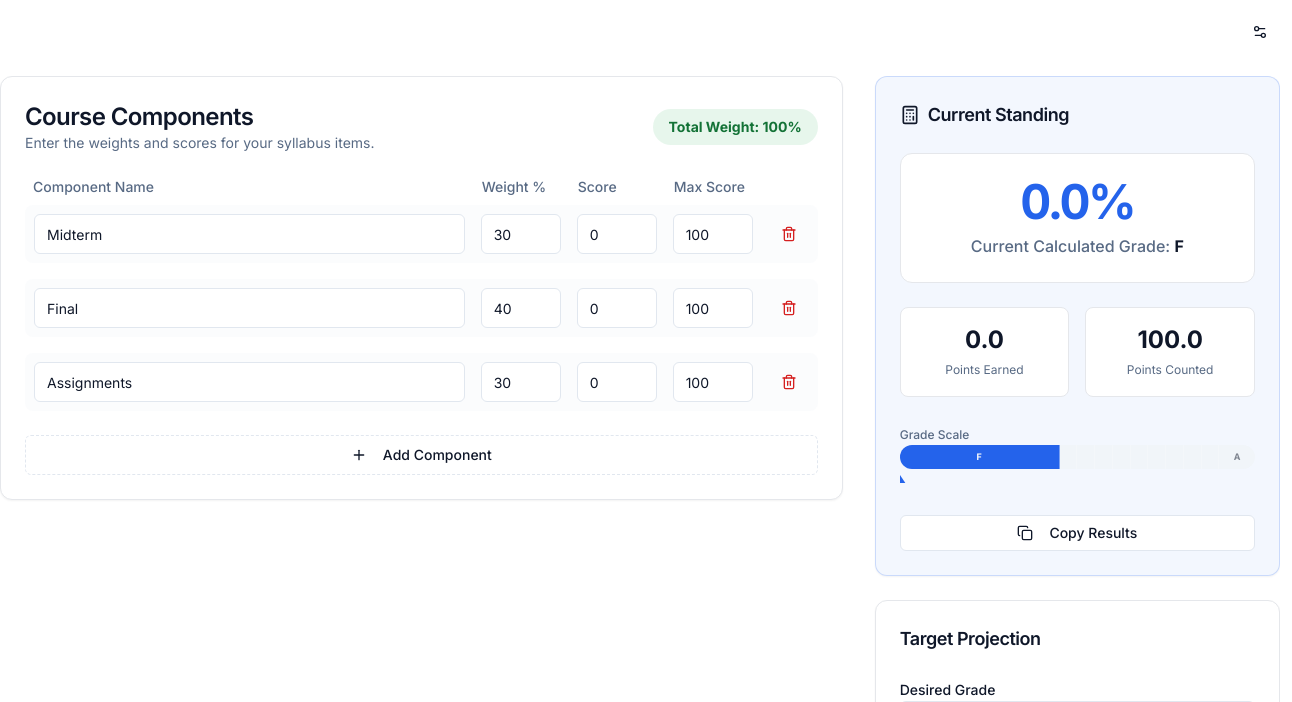
Test case: GradeCalculator Component › maps percentage to correct letter grade
This screenshot has width=1292, height=702.
Replace the text in the number field named "Score for" with "85": (617, 234) [577,214,657,254]
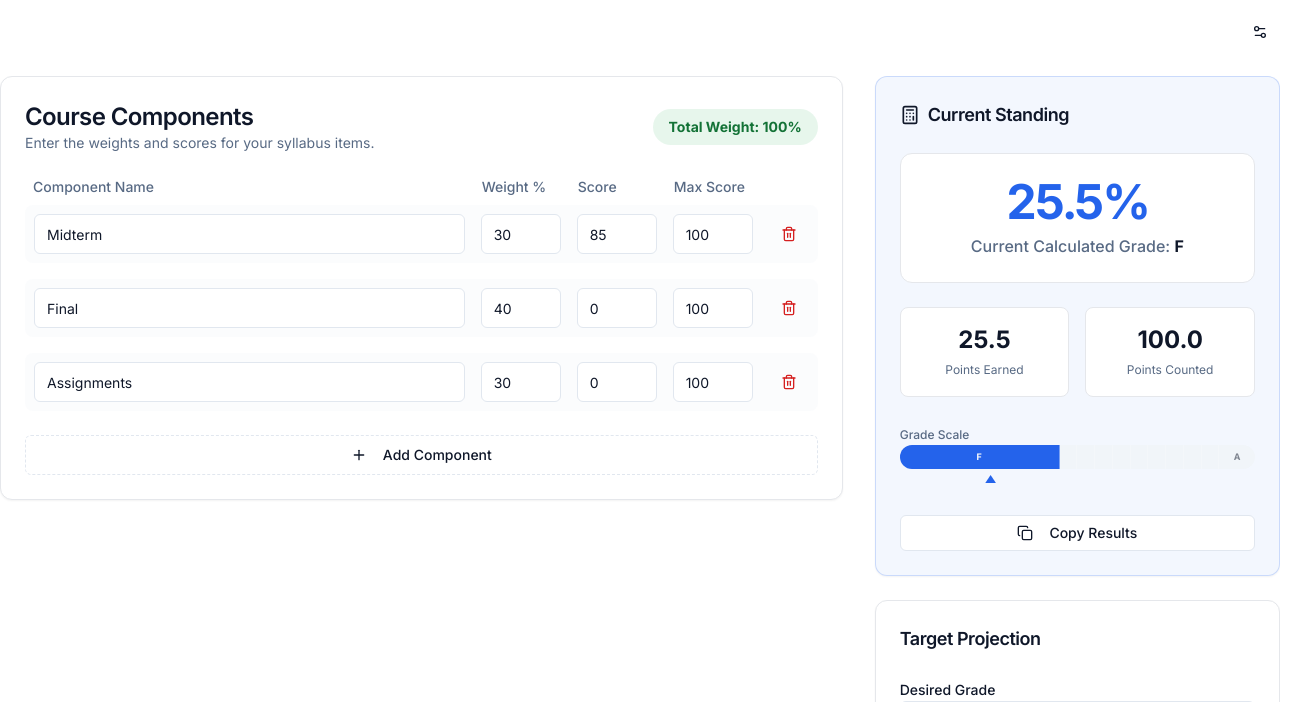
Replace the text in the number field named "Score for" with "85": (617, 308) [577,288,657,328]
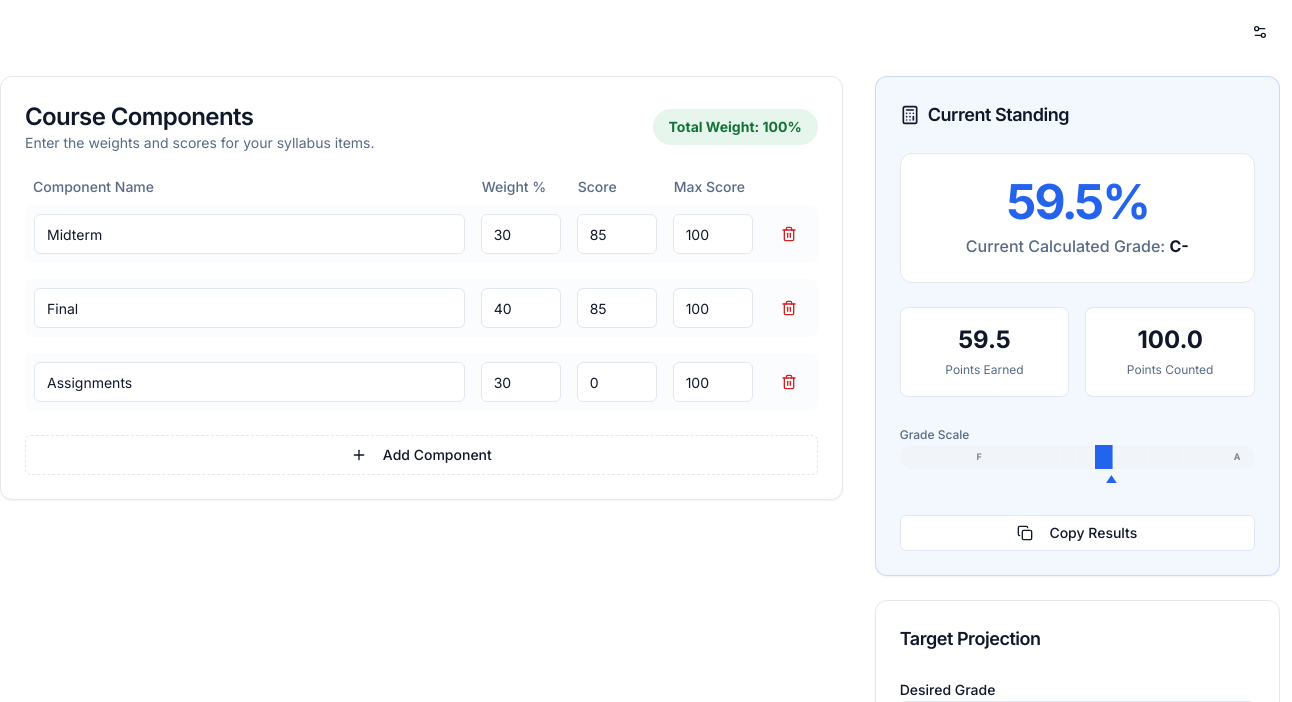
Replace the text in the number field named "Score for" with "85": (617, 382) [577,362,657,402]
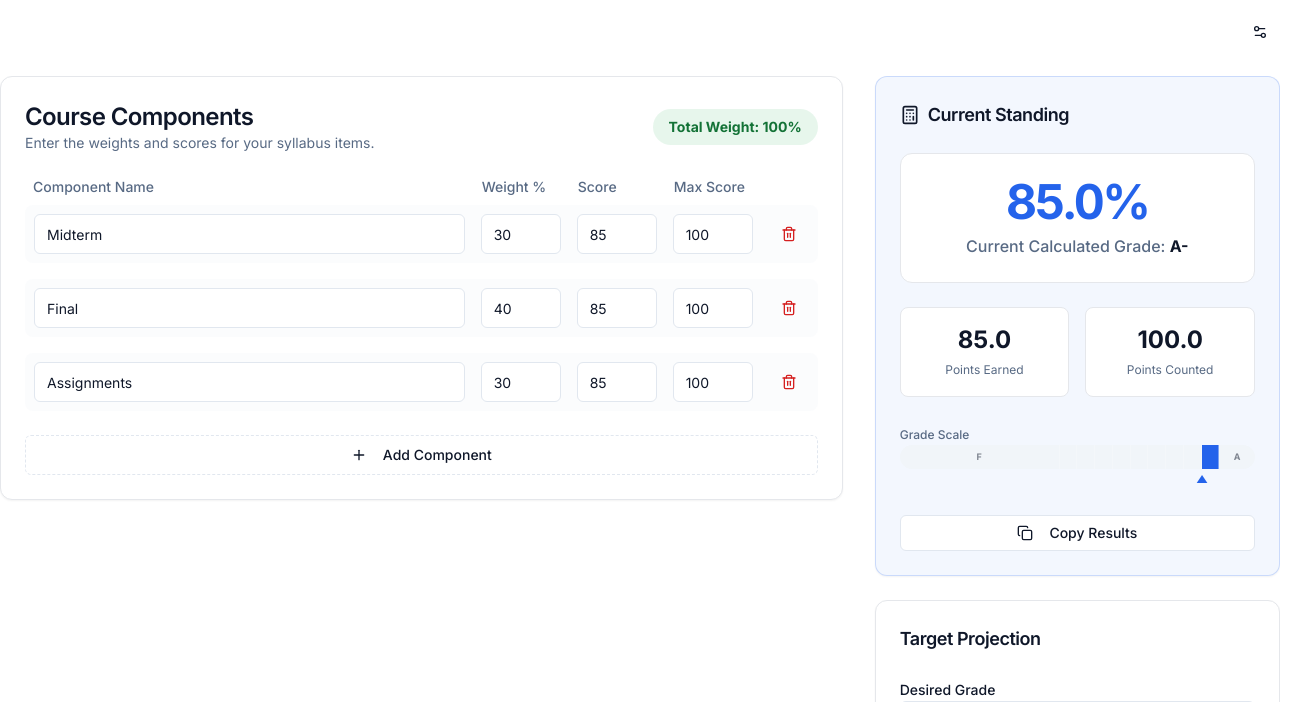
Expected: the text "85.0%" is shown, [1006,178,1149,226]
Expected: the text "Current Calculated Grade: A-" is shown, [966,234,1189,258]
